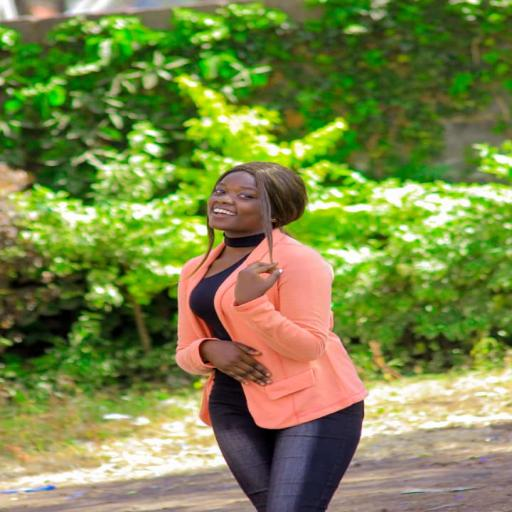LAURENE: (202, 156, 319, 248)
